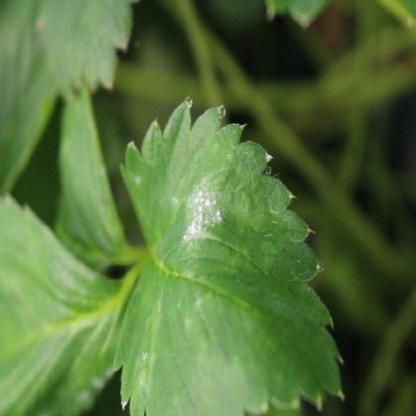Strawberry_Powdery_Mildew_Leaf: (110, 95, 346, 415)
